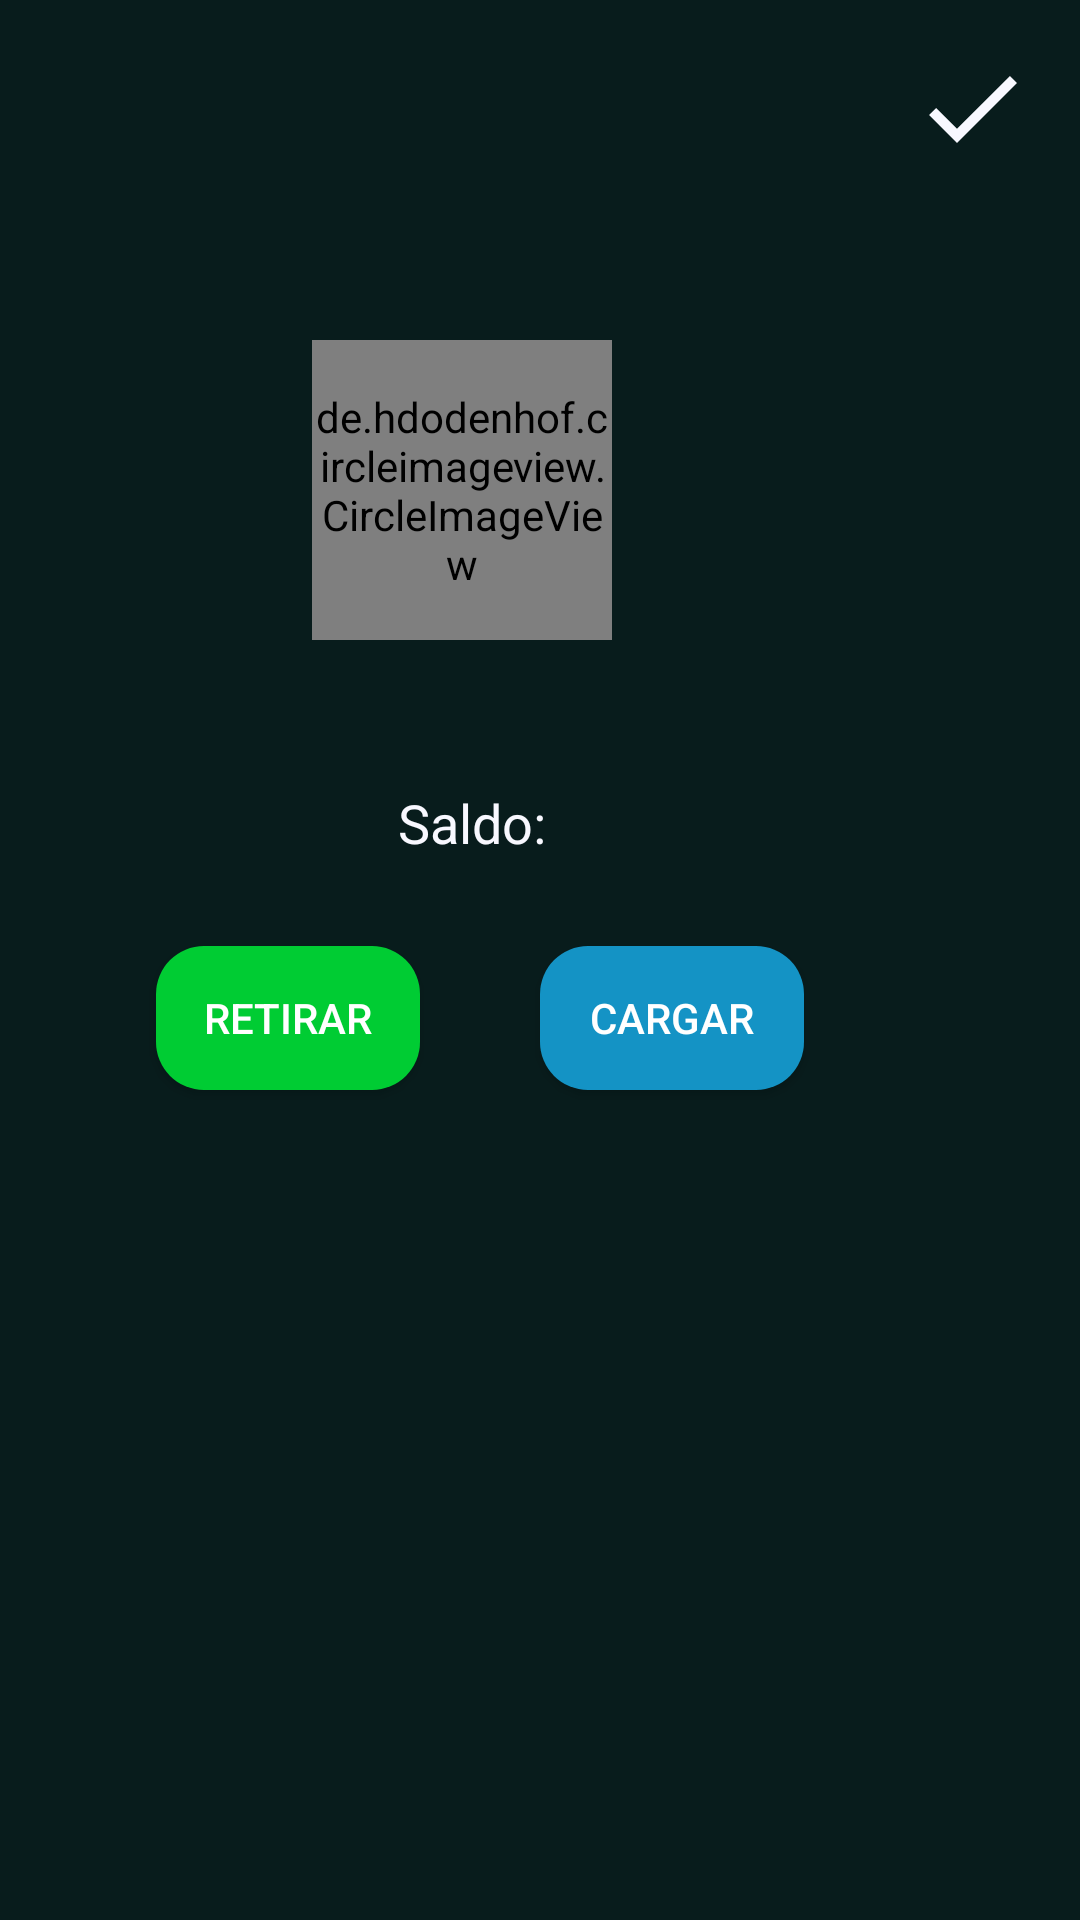

Screen size 1080w x 1920h. Icon name, then its center in pixels as (x,y):
check: (973,109)
